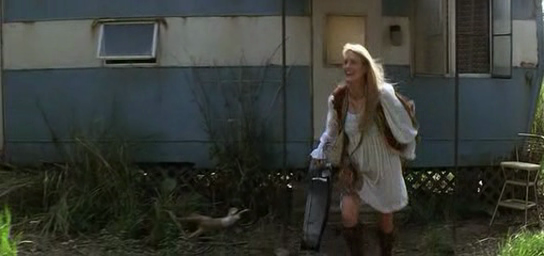face: (342, 51, 361, 81)
ls: (1, 1, 544, 256)
person: (309, 42, 418, 256)
